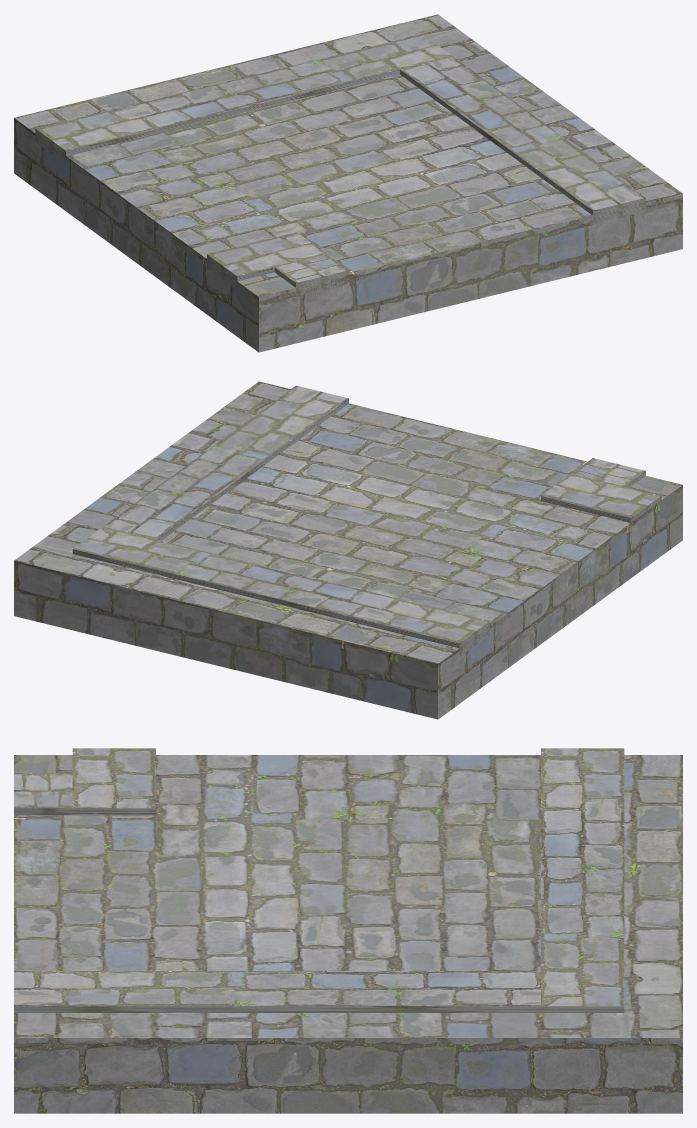
Rendered from GND_Flat_02x02_city_cobble_lintersection_A.glb.
3 views of the same model, one above another, from view 1: azimuth 30°, elevation 25°; view 2: azimuth 150°, elevation 25°; view 3: azimuth 270°, elevation 25° (orthographic). The views are drawn at different scales.
Visible parts, largest first — view 1: ground.004, rails.011, rails.009; view 2: ground.004, rails.011, rails.009; view 3: ground.004, rails.011, rails.009.
Boxes of the visible parts, x1,y1,x2,y2 form: ground.004: [14, 14, 682, 352]; rails.011: [35, 34, 645, 224]; rails.009: [207, 232, 348, 296]; ground.004: [14, 381, 682, 719]; rails.011: [72, 385, 489, 656]; rails.009: [541, 458, 661, 522]; ground.004: [14, 755, 682, 1113]; rails.011: [14, 748, 624, 1012]; rails.009: [14, 748, 155, 815].
Bounding box in the file's own units: 2 × 0.2723 × 2.
3 materials, 3 textured.
